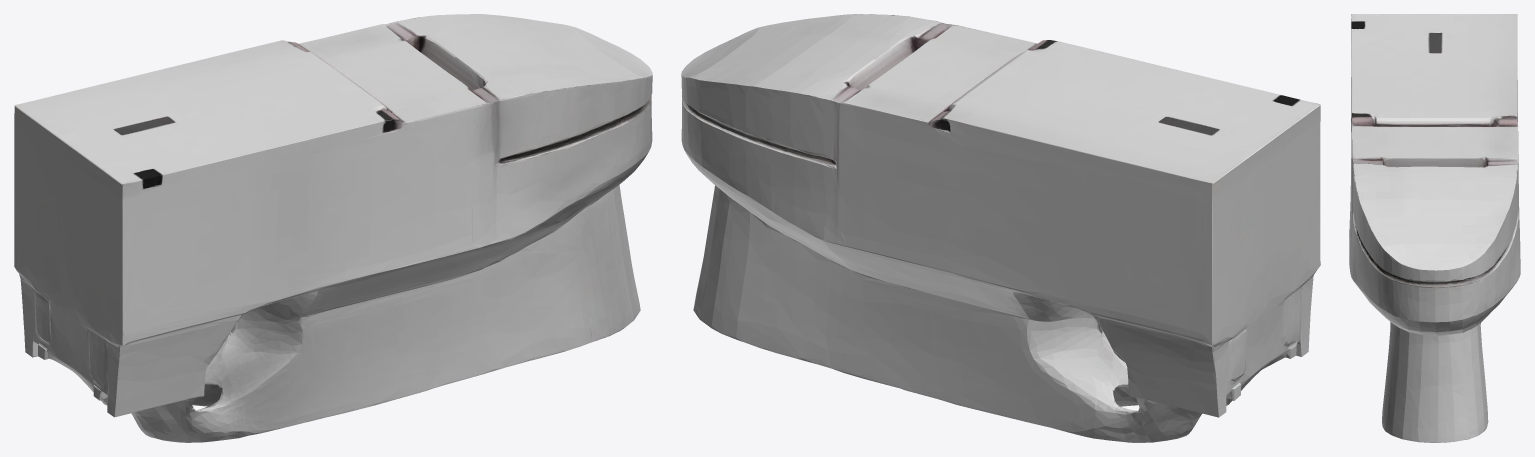
The picture shows the model from 3 angles, left to right: view 1: azimuth 30°, elevation 25°; view 2: azimuth 150°, elevation 25°; view 3: azimuth 270°, elevation 25°; orthographic projection. The views are drawn at different scales.
Parts seen in each view (by area): view 1: world; view 2: world; view 3: world.
Boxes of the visible parts, x1,y1,x2,y2 form: world: [14, 14, 652, 442]; world: [681, 14, 1320, 442]; world: [1349, 14, 1520, 442].
Size of the model in its own units: 0.9966 by 0.5154 by 0.3354.
Materials: 1 (1 with a texture image).
